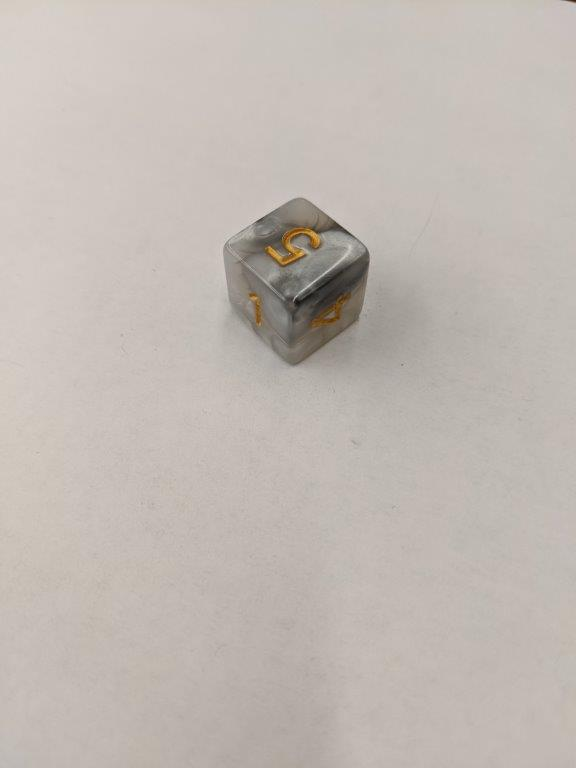d6-5: (224, 194, 368, 368)
